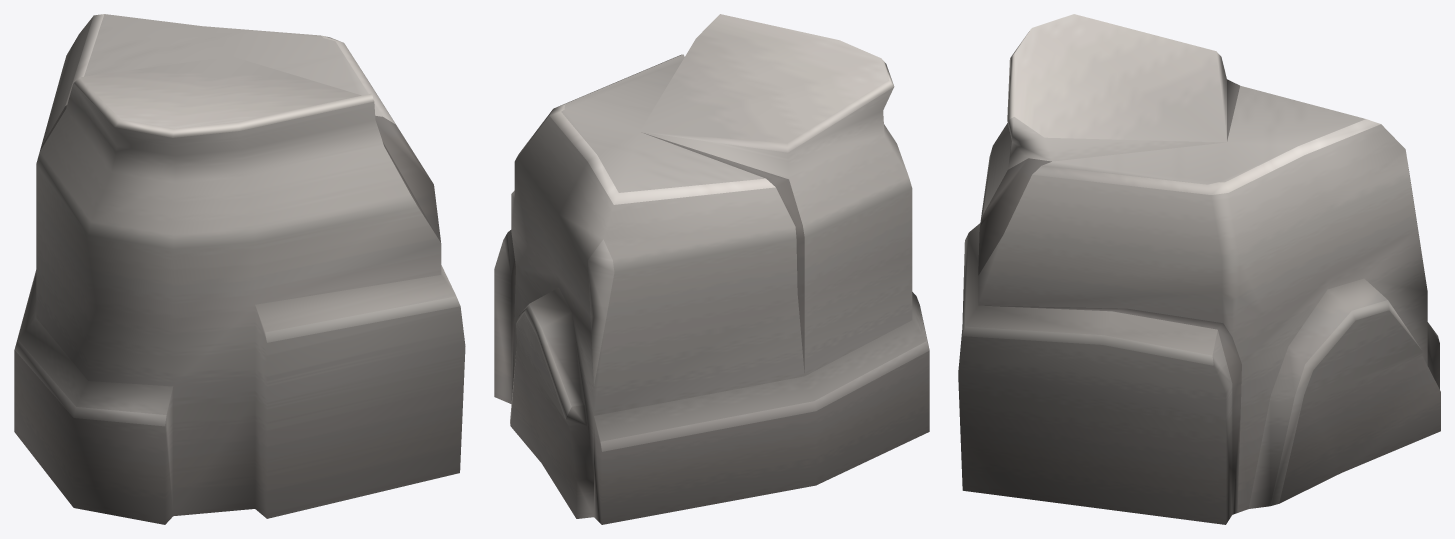
The model's file is Rock_05.fbx.
3 renders of one model, left to right at view 1: azimuth 30°, elevation 25°; view 2: azimuth 150°, elevation 25°; view 3: azimuth 270°, elevation 25°, orthographic. The views are drawn at different scales.
Visible parts, largest first — view 1: Rock_05; view 2: Rock_05; view 3: Rock_05.
Boxes of the visible parts, <box> form: Rock_05: <box>14,14,465,524</box>; Rock_05: <box>494,14,929,524</box>; Rock_05: <box>958,14,1440,524</box>.
Size of what is drawn, in the model's own units: 3.55 by 3.19 by 3.98.
1 material, 1 textured.
